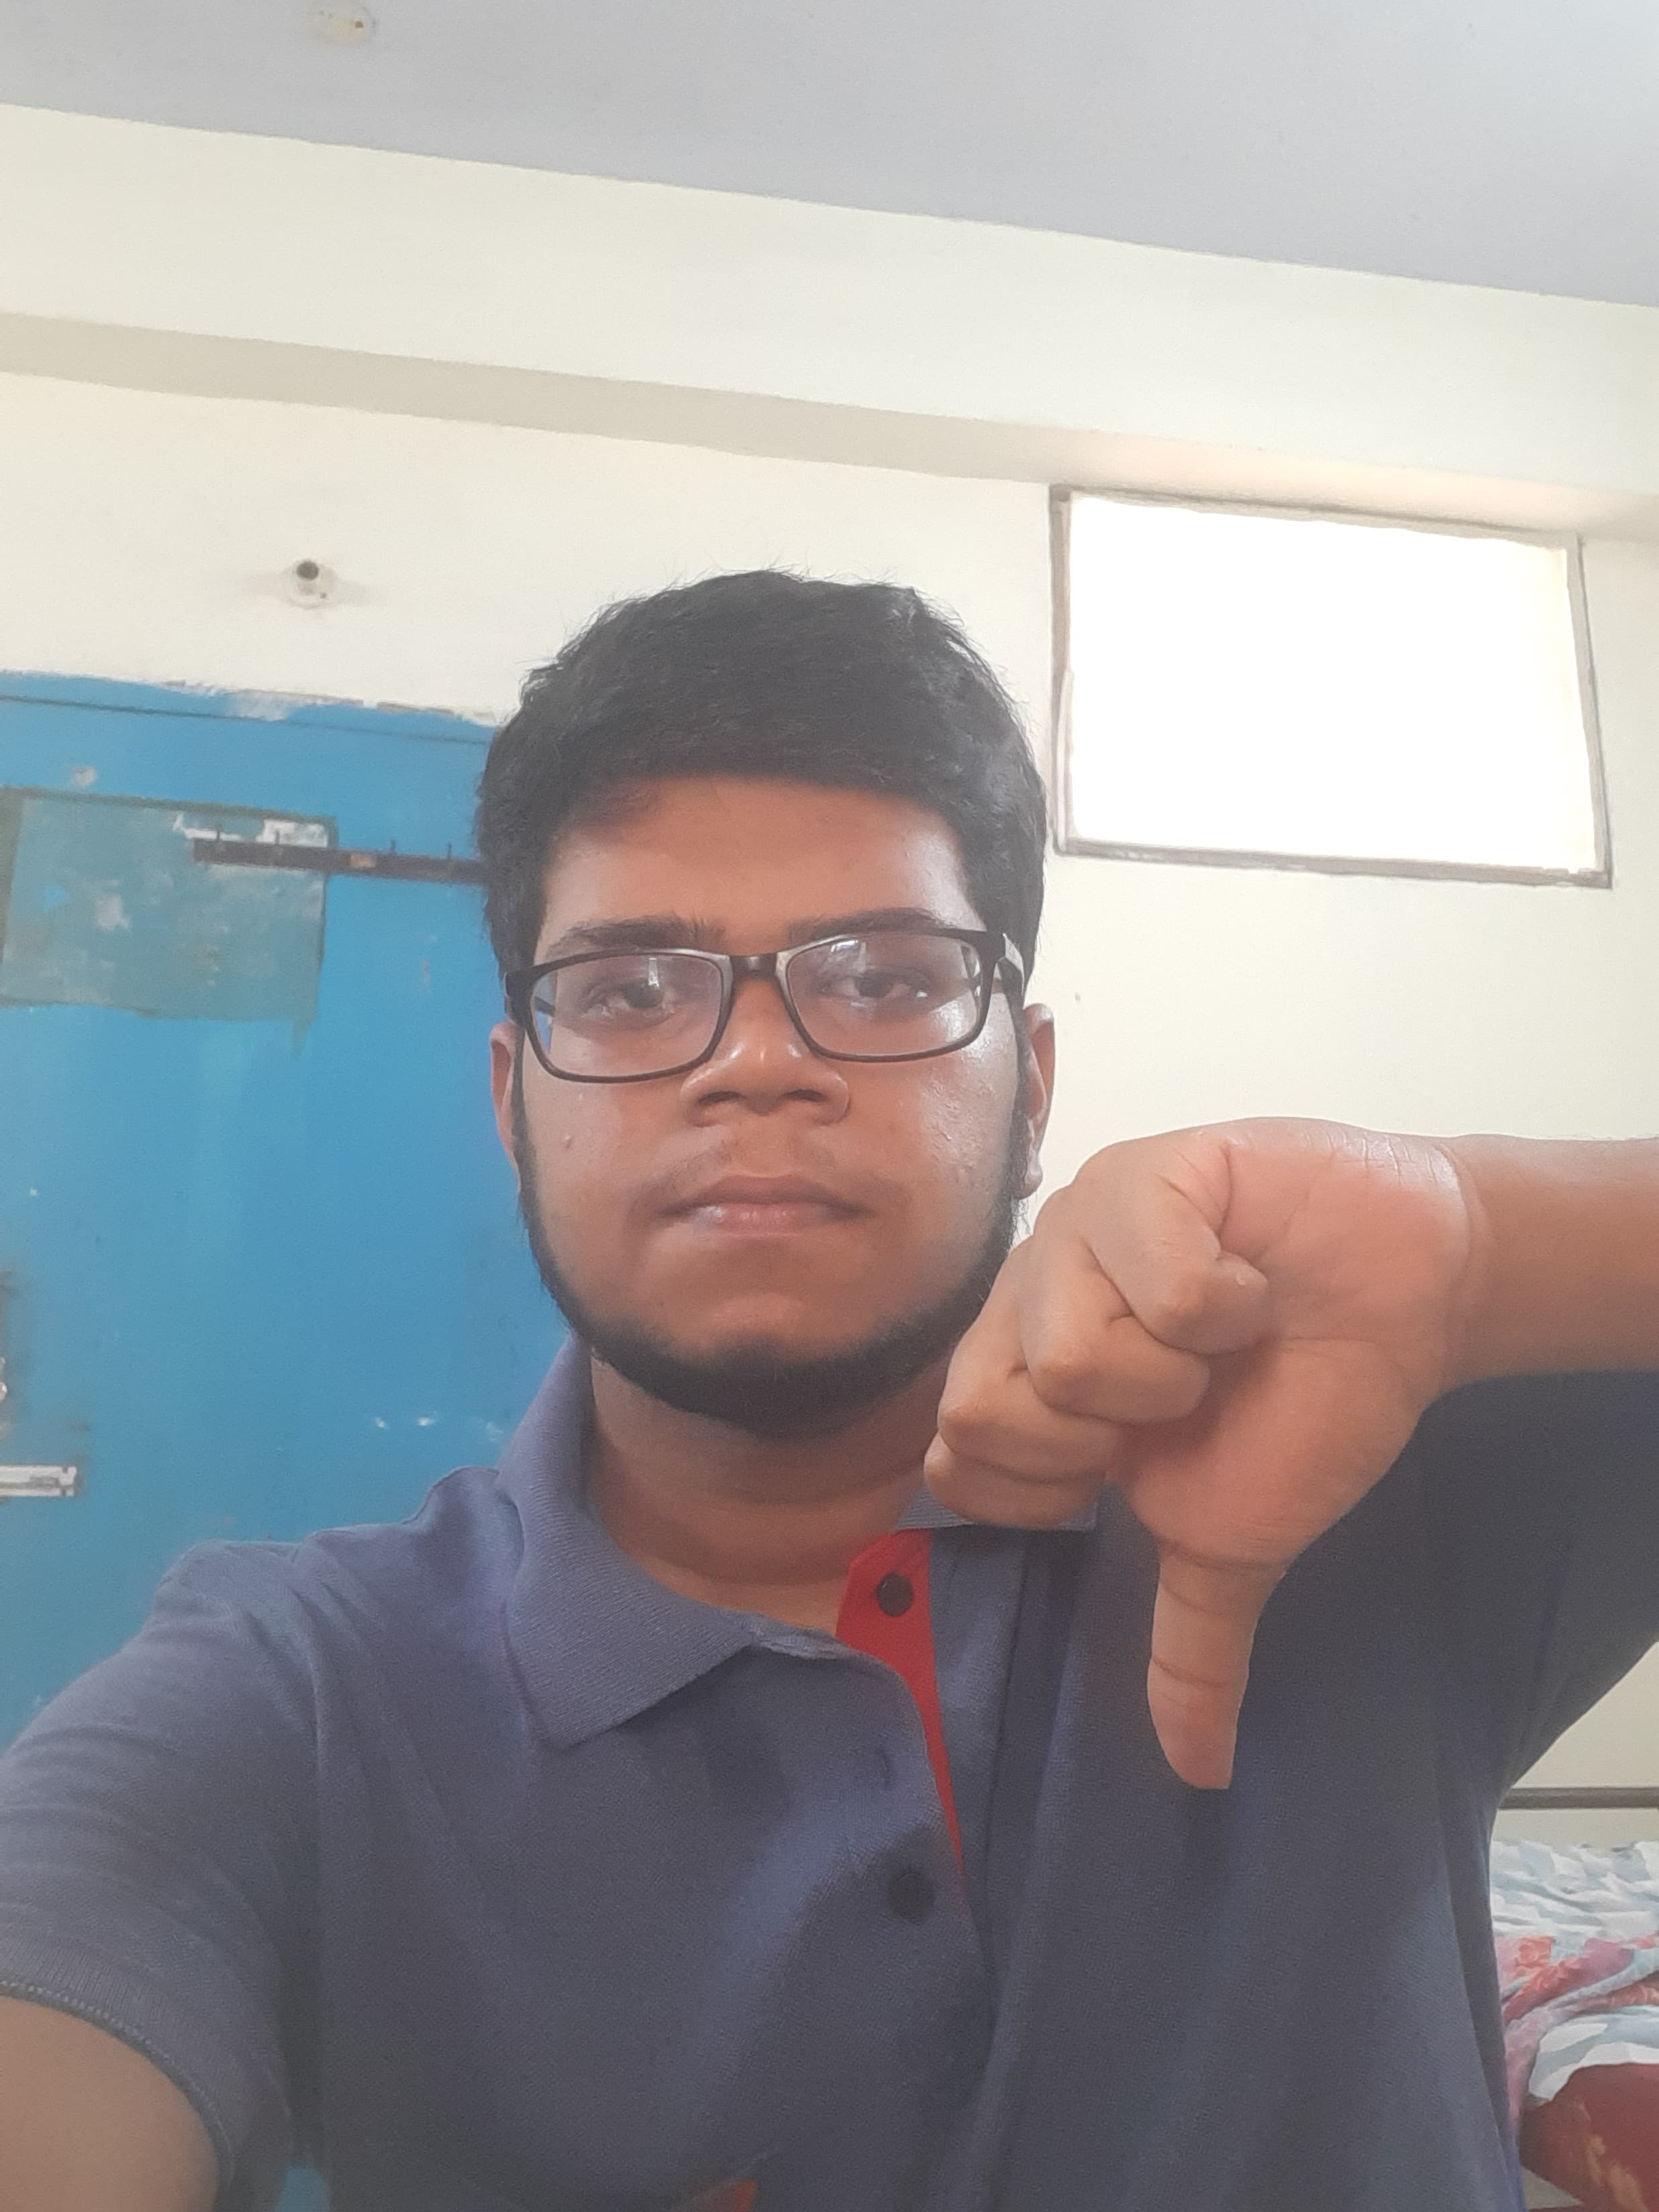td10: (915, 1109, 1490, 1796)
